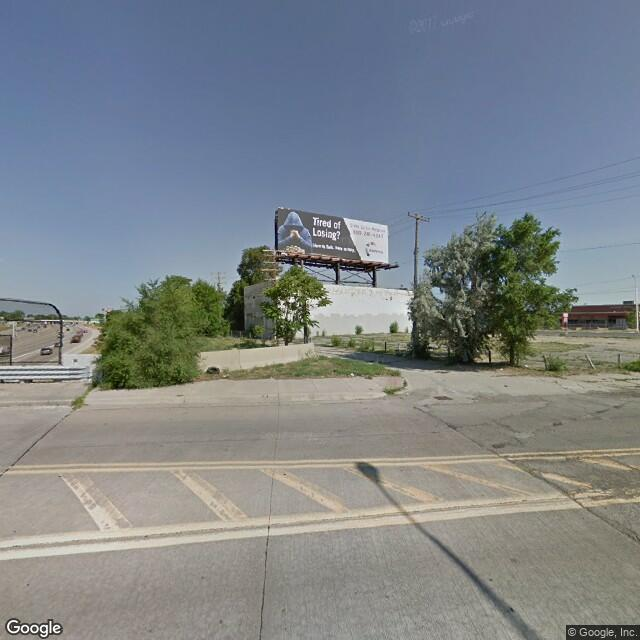litter: (521, 361, 530, 375), (346, 371, 360, 379), (496, 361, 504, 372)
